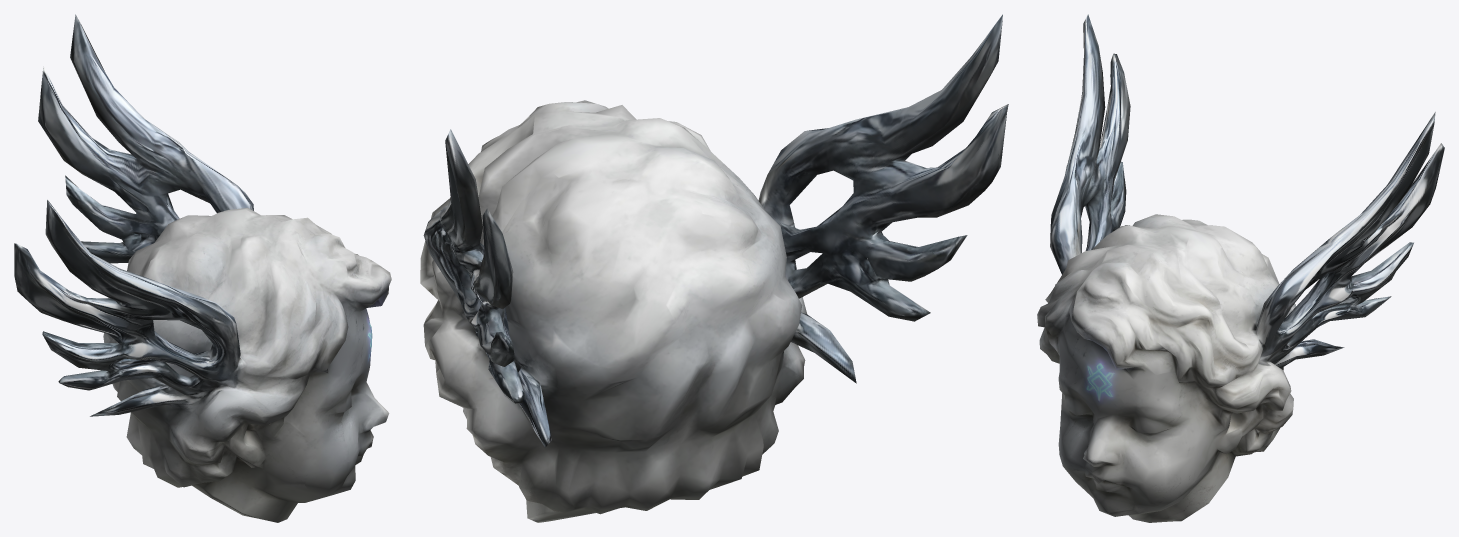
File: model_pack.glb
3 views of the same model, side by side, from view 1: azimuth 30°, elevation 25°; view 2: azimuth 150°, elevation 25°; view 3: azimuth 270°, elevation 25° (orthographic). The views are drawn at different scales.
Visible parts, largest first — view 1: tripo_node_443be4ce-1240-44d1-9ae3-31afa34f3e86; view 2: tripo_node_443be4ce-1240-44d1-9ae3-31afa34f3e86; view 3: tripo_node_443be4ce-1240-44d1-9ae3-31afa34f3e86.
Part boxes in pixels (x1,y1,x2,y2): tripo_node_443be4ce-1240-44d1-9ae3-31afa34f3e86: (14,14,391,522); tripo_node_443be4ce-1240-44d1-9ae3-31afa34f3e86: (420,14,1008,522); tripo_node_443be4ce-1240-44d1-9ae3-31afa34f3e86: (1037,14,1444,522).
Bounding box in the file's own units: 0.975 × 1 × 0.9644.
Materials: 1 (1 with a texture image).
